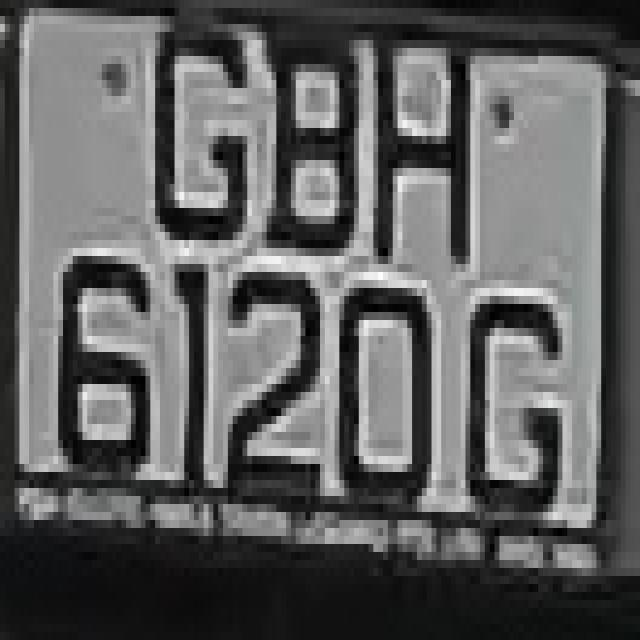0: (325, 248, 441, 536)
1: (165, 224, 223, 504)
2: (223, 224, 325, 536)
6: (44, 240, 150, 488)
B: (257, 8, 364, 264)
G: (141, 8, 257, 280), (456, 264, 572, 528)
H: (368, 8, 485, 280)
